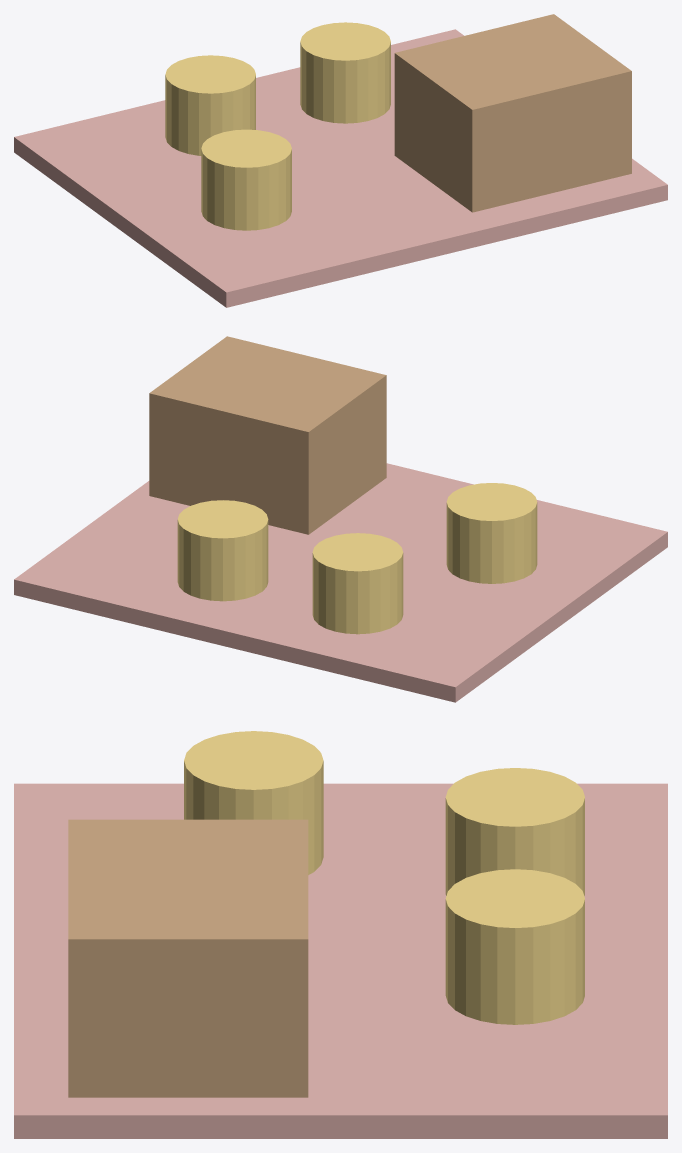
The model's file is toys.glb.
3 views of the same model, one above another, from view 1: azimuth 30°, elevation 25°; view 2: azimuth 150°, elevation 25°; view 3: azimuth 270°, elevation 25° (orthographic). The views are drawn at different scales.
Visible parts, largest first — view 1: play mat, toy basket, rolling toy; view 2: play mat, toy basket, rolling toy; view 3: play mat, toy basket, rolling toy.
Boxes of the visible parts, left/top/right/bottom form: play mat: left=14, top=29, right=667, bottom=307; toy basket: left=394, top=14, right=631, bottom=212; rolling toy: left=165, top=22, right=390, bottom=230; play mat: left=14, top=463, right=667, bottom=702; toy basket: left=149, top=336, right=386, bottom=534; rolling toy: left=177, top=483, right=537, bottom=634; play mat: left=14, top=783, right=667, bottom=1138; toy basket: left=68, top=819, right=308, bottom=1097; rolling toy: left=184, top=731, right=584, bottom=1024.
Size of the model in its own units: 1.8 by 0.47 by 1.5.
